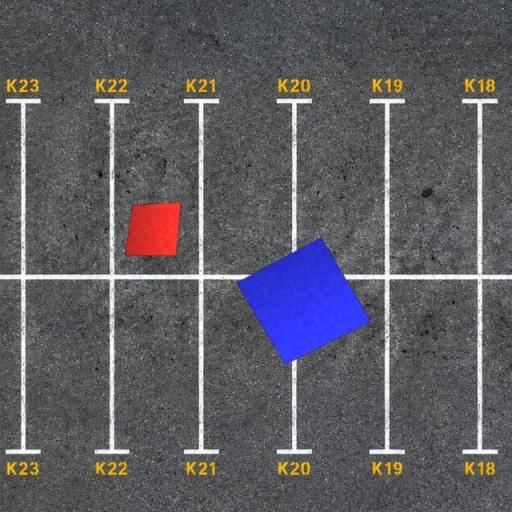BLUE_SQUARE: (235, 236, 372, 366)
RED_SQUARE: (124, 202, 182, 256)
